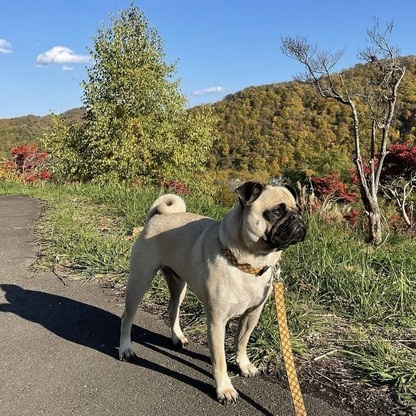Pug: (112, 179, 311, 410)
